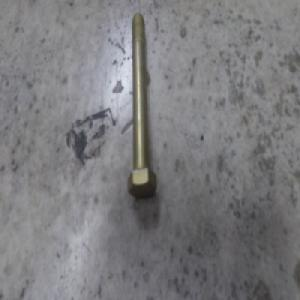Bolt: (126, 11, 157, 200)
